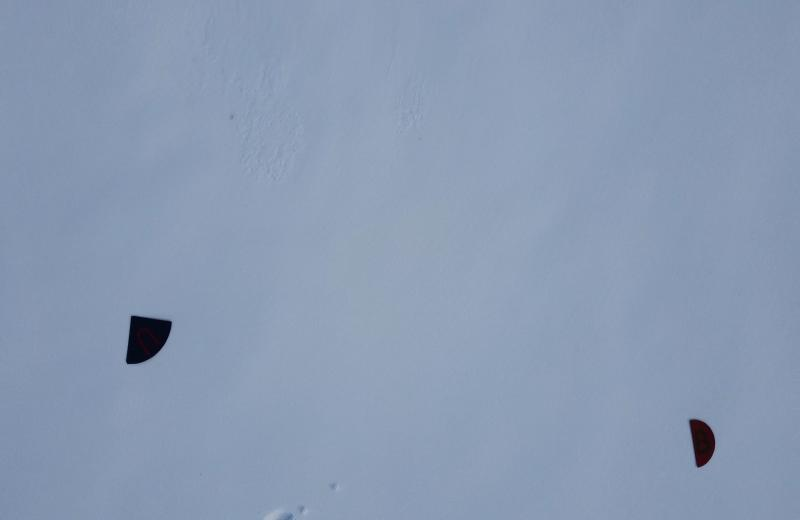Quarter Circle: (123, 312, 174, 365)
Semi Circle: (687, 417, 718, 469)
